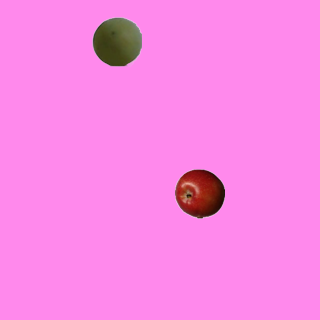Apple Braeburn: (174, 168, 224, 218)
Grape White 4: (91, 16, 141, 66)
